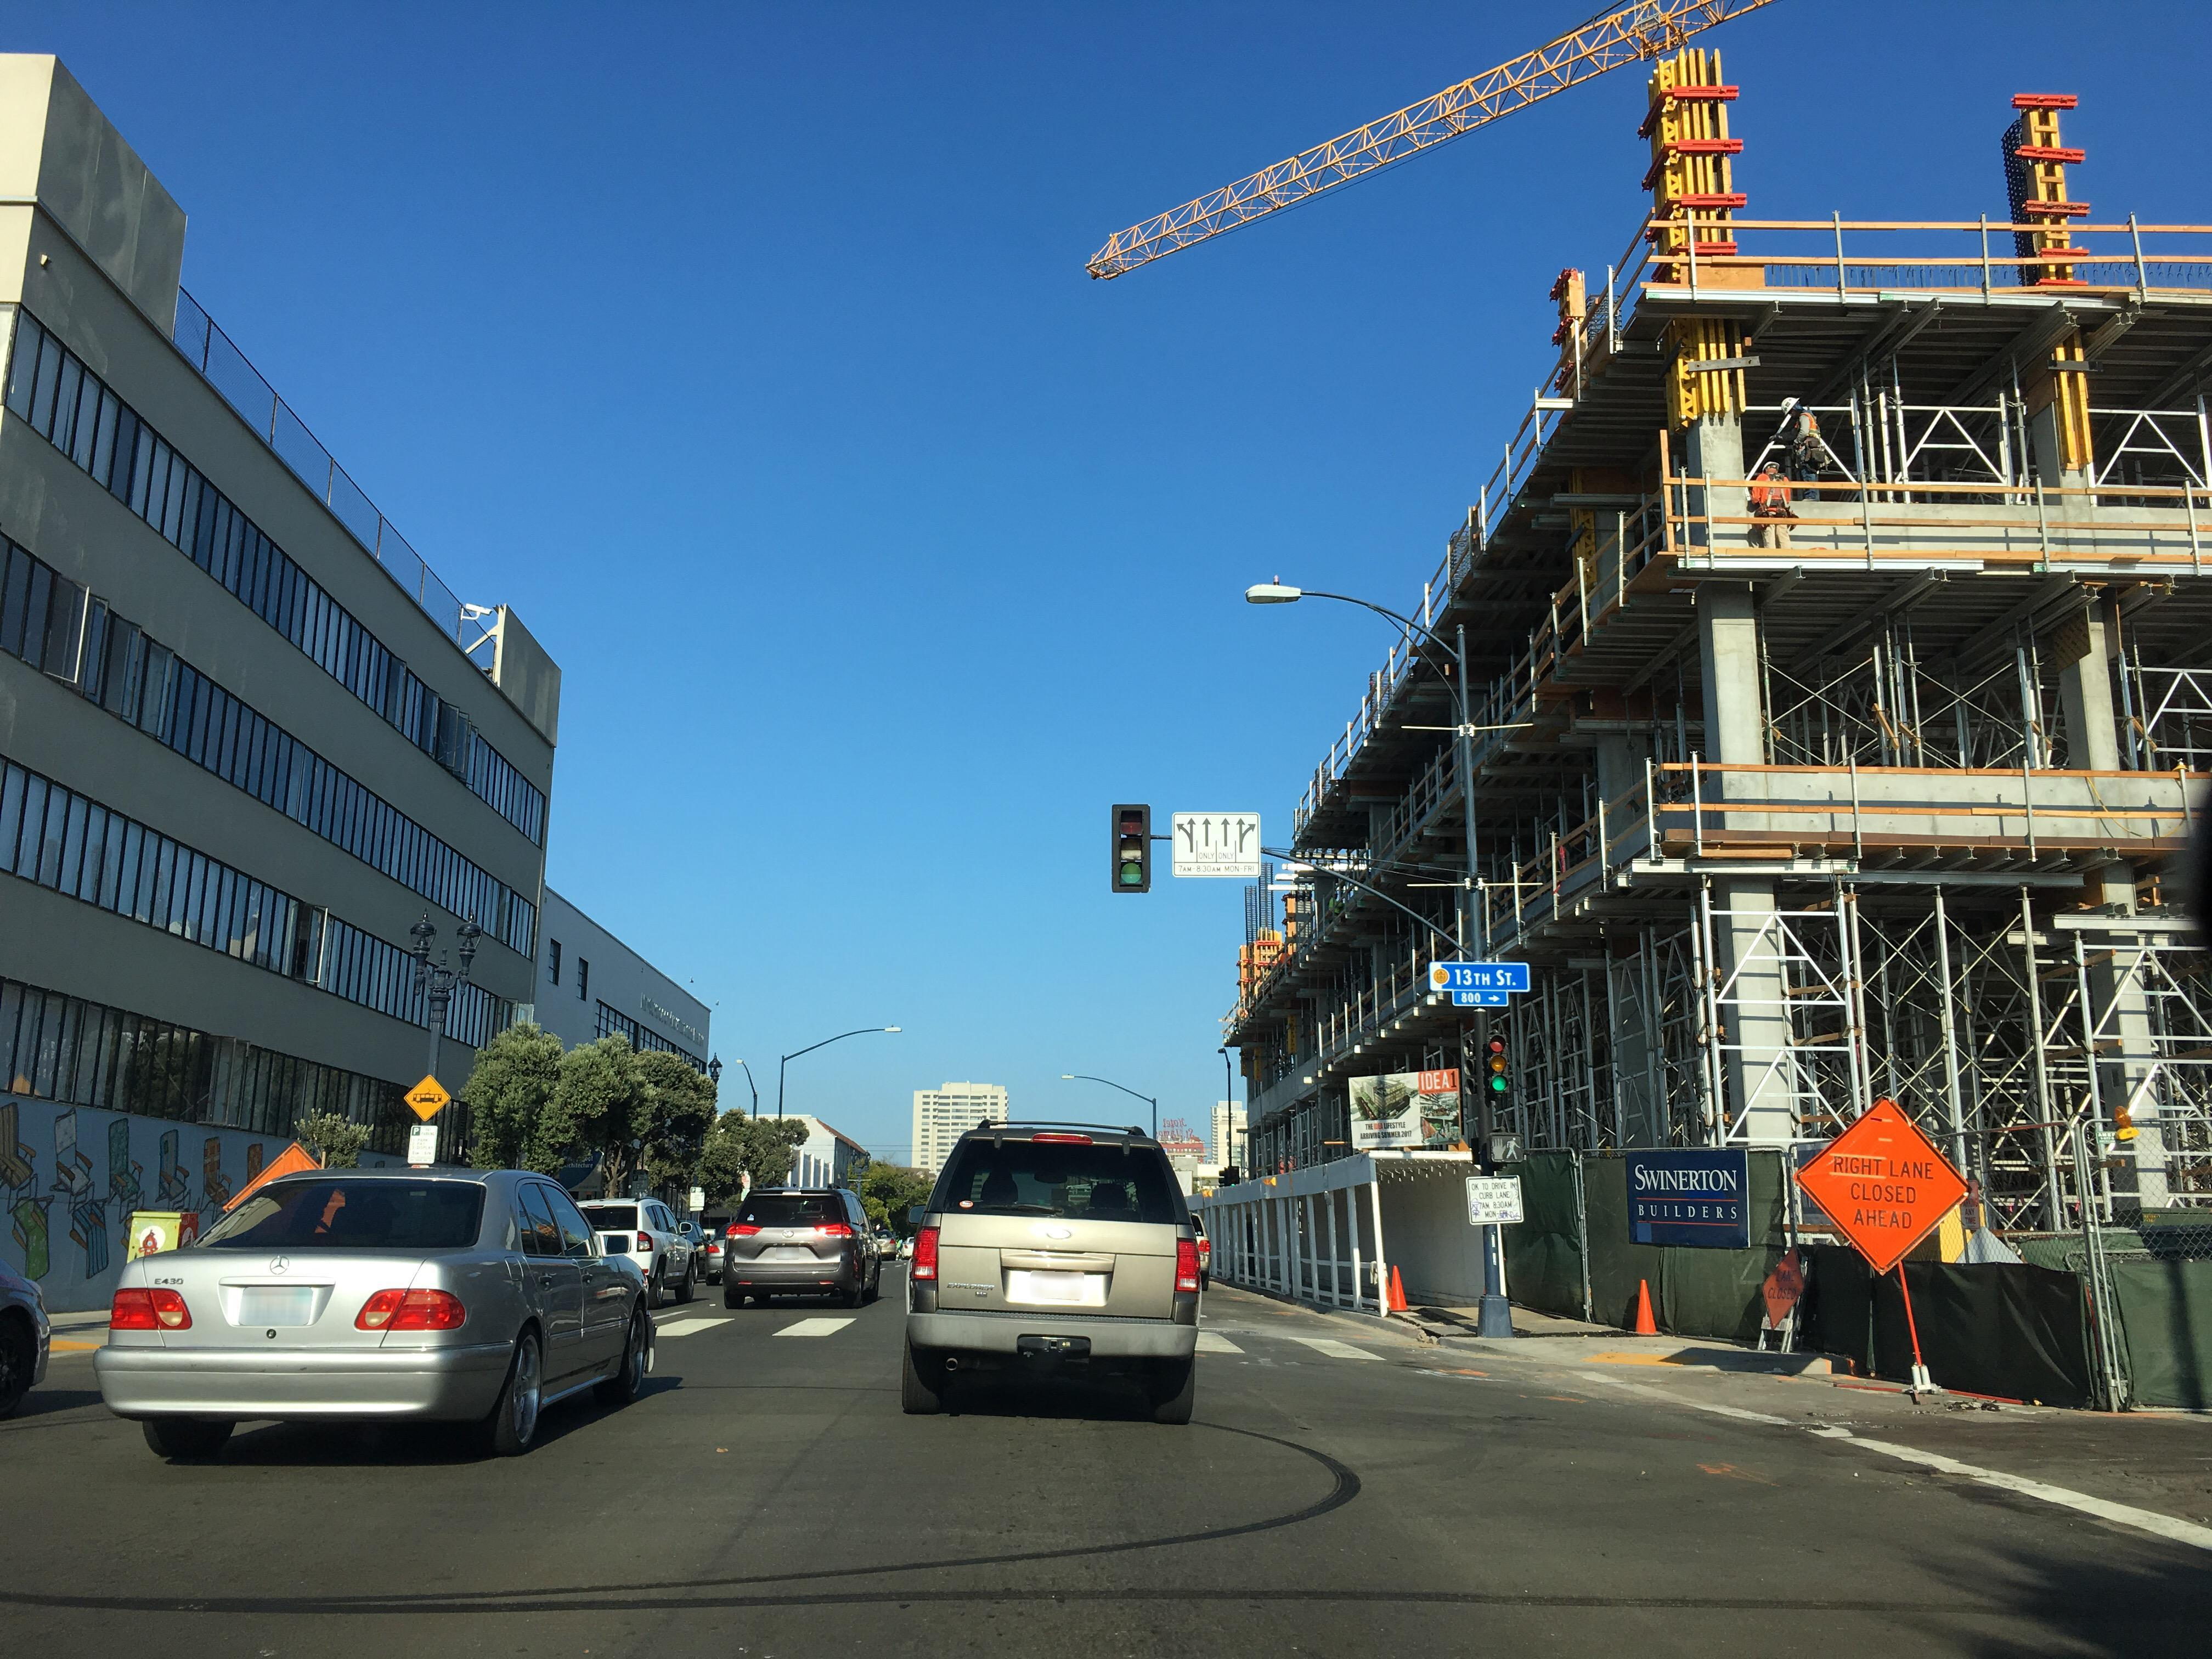vinyl banner: (1620, 1117, 1780, 1284), (1339, 1061, 1508, 1188)
